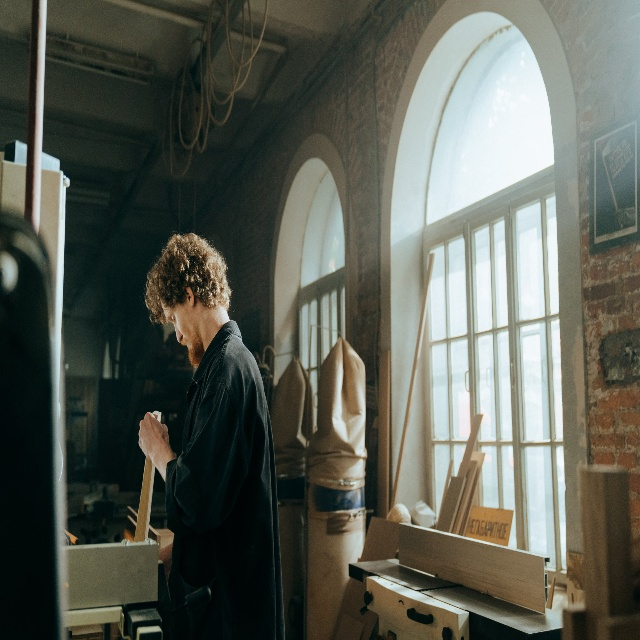Sin_guantes: (138, 414, 170, 470)
